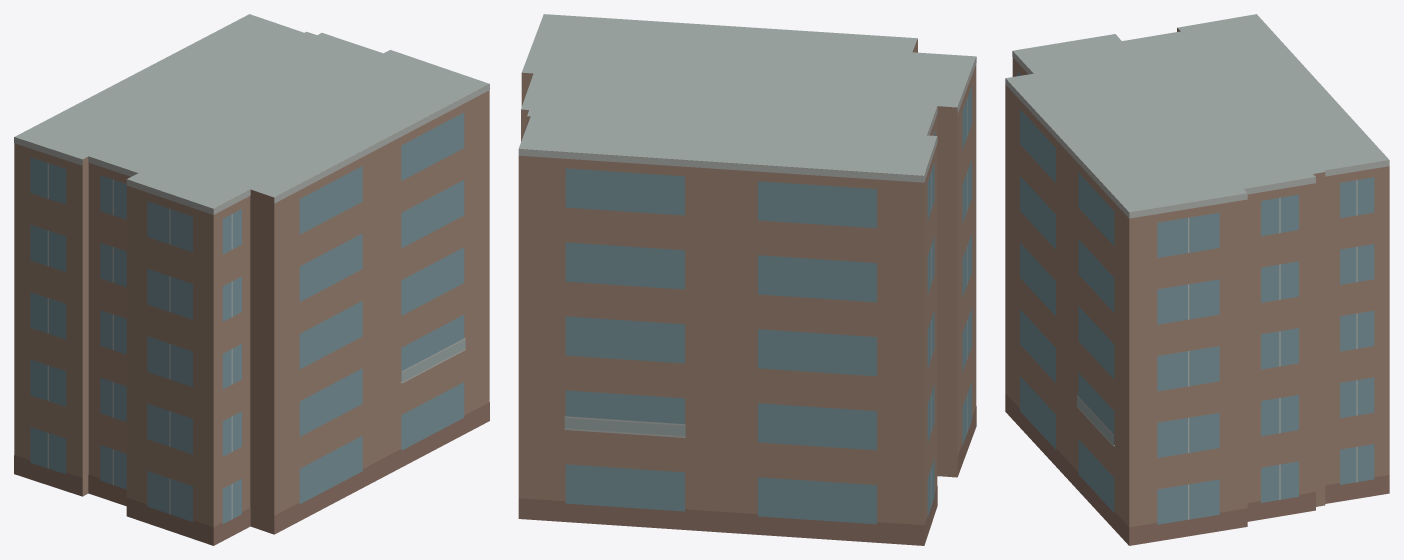
Rendered from survey-upis-32585415.glb.
3 renders of one model, left to right at view 1: azimuth 30°, elevation 25°; view 2: azimuth 150°, elevation 25°; view 3: azimuth 270°, elevation 25°, orthographic. The views are drawn at different scales.
Parts seen in each view (by area): view 1: survey-upis-32585415.tmp; view 2: survey-upis-32585415.tmp; view 3: survey-upis-32585415.tmp.
Boxes of the visible parts, x1,y1,x2,y2 form: survey-upis-32585415.tmp: [14, 14, 489, 545]; survey-upis-32585415.tmp: [518, 14, 976, 545]; survey-upis-32585415.tmp: [1005, 14, 1389, 545].
Size of the model in its own units: 16.86 by 13.2 by 13.8.
